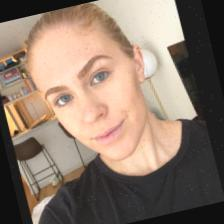Normal: (36, 37, 144, 156)
